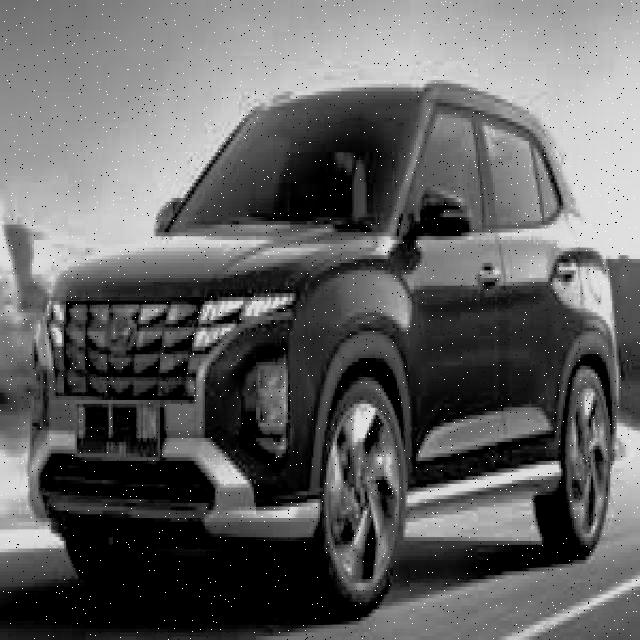Car: (27, 92, 619, 595)
